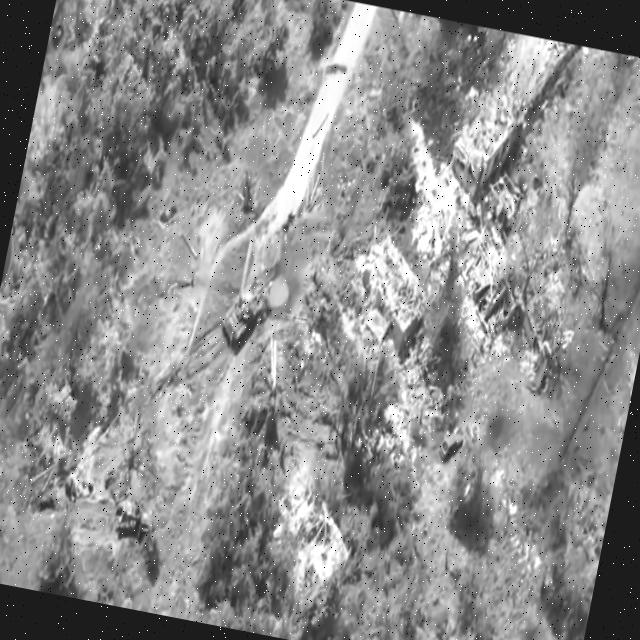MBT: (217, 263, 282, 361)
Vehicle: (112, 495, 159, 549), (437, 427, 468, 467)
